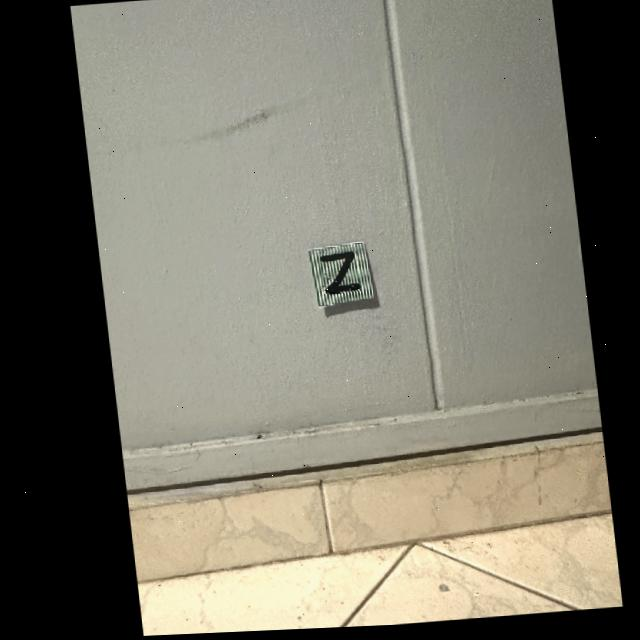Z: (316, 255, 355, 296)
